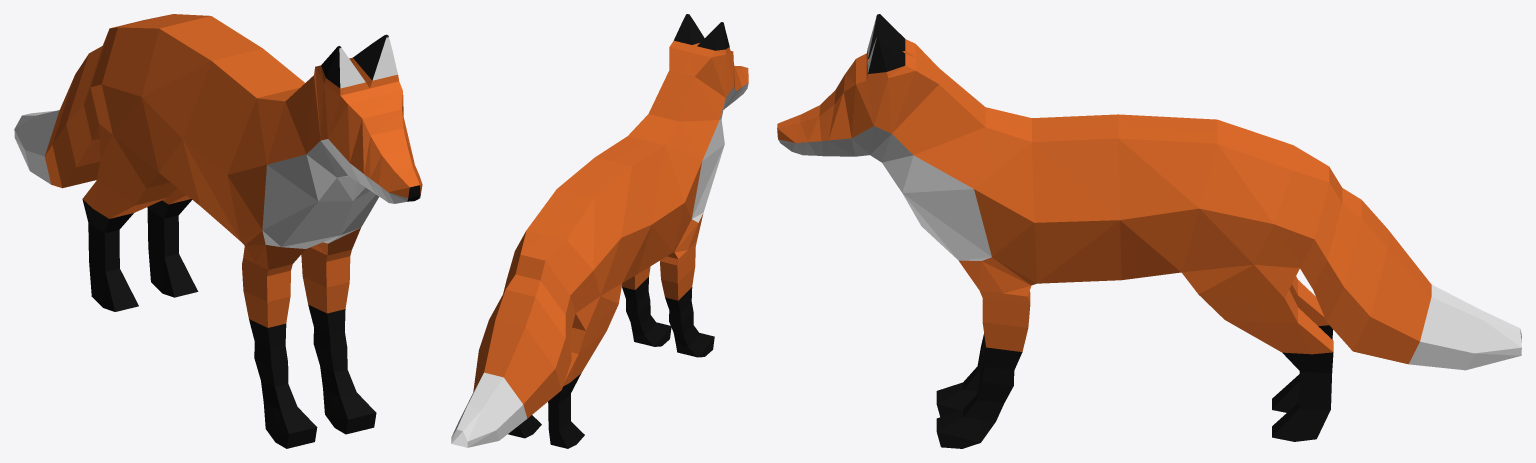
Rendered from fox_alt.fbx.
The picture shows the model from 3 angles, left to right: view 1: azimuth 30°, elevation 25°; view 2: azimuth 150°, elevation 25°; view 3: azimuth 270°, elevation 25°; orthographic projection. The views are drawn at different scales.
Parts seen in each view (by area): view 1: Cube; view 2: Cube; view 3: Cube.
Part boxes in pixels (box(x1,y1,x2,y2)): Cube: box(14, 14, 422, 448); Cube: box(451, 14, 748, 448); Cube: box(777, 14, 1521, 448).
Bounding box in the file's own units: 0.4755 × 1.78 × 2.97.
